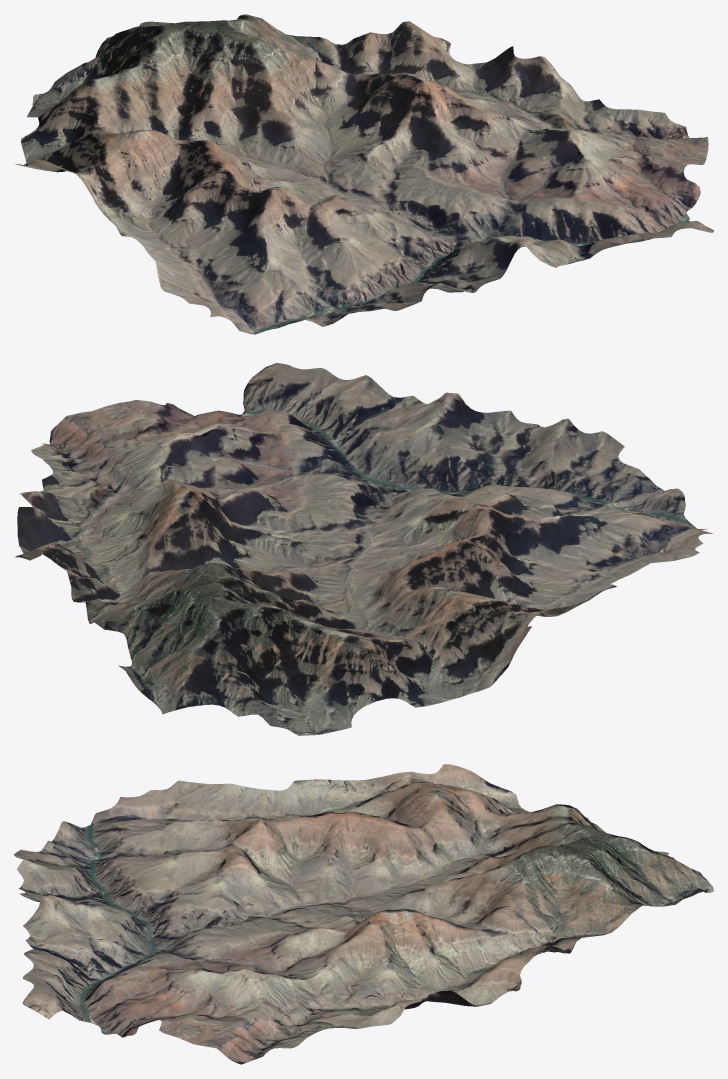
The model's file is mountain_photoscan_low_poly.glb.
3 views of the same model, one above another, from view 1: azimuth 30°, elevation 25°; view 2: azimuth 150°, elevation 25°; view 3: azimuth 270°, elevation 25° (orthographic). The views are drawn at different scales.
Visible parts, largest first — view 1: mountan3:default1; view 2: mountan3:default1; view 3: mountan3:default1.
Boxes of the visible parts, bbox=[...] form: mountan3:default1: bbox=[15, 14, 713, 334]; mountan3:default1: bbox=[15, 363, 712, 735]; mountan3:default1: bbox=[14, 764, 713, 1064].
Bounding box in the file's own units: 28.42 × 3.76 × 30.73.
Materials: 1 (1 with a texture image).
